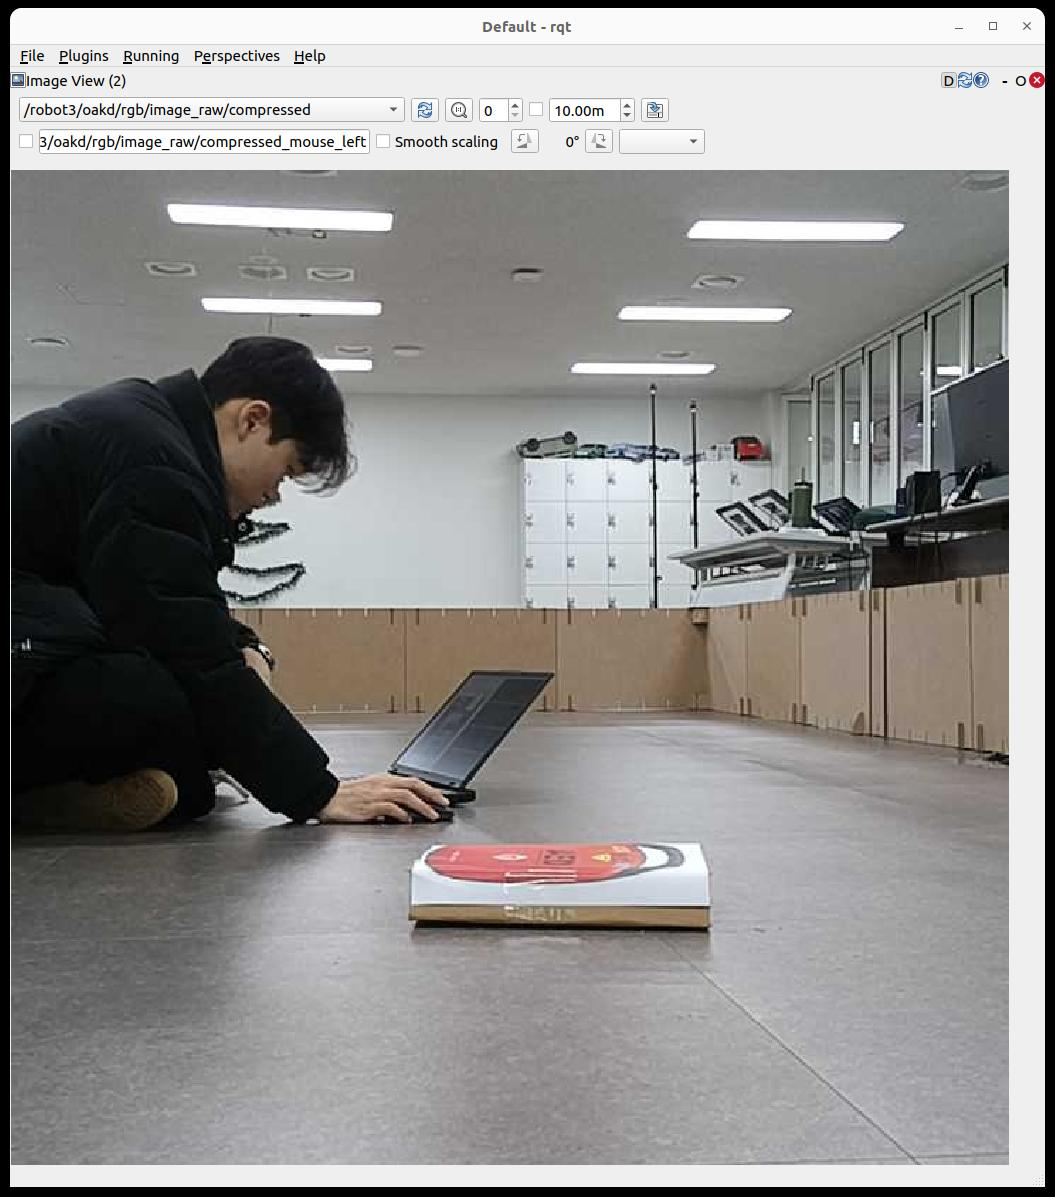AED: (408, 839, 709, 927)
